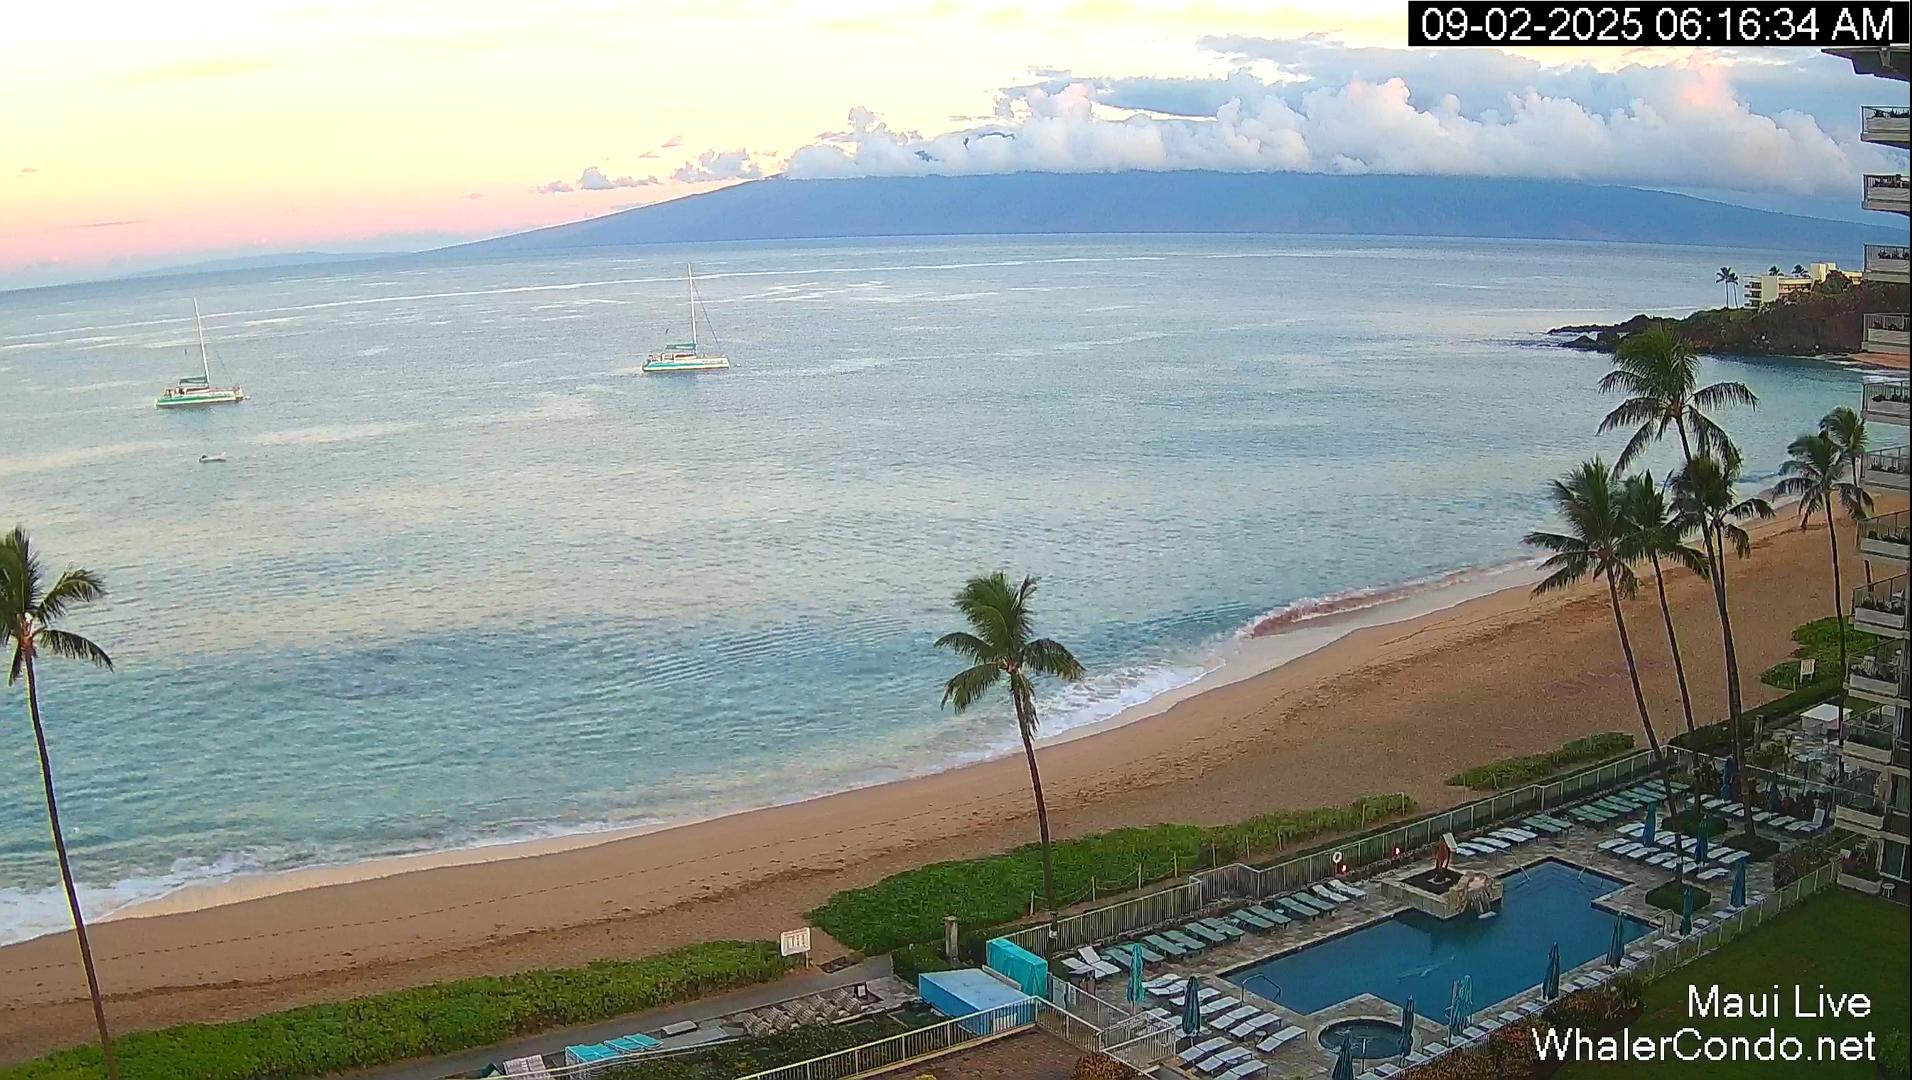boat: (155, 296, 248, 410), (642, 263, 730, 373), (200, 452, 228, 462)
